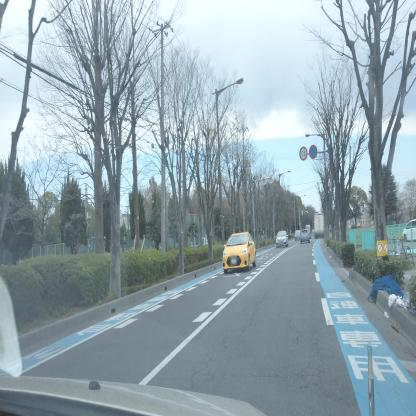Someiyoshino: (398, 173, 416, 218), (358, 194, 374, 223)
